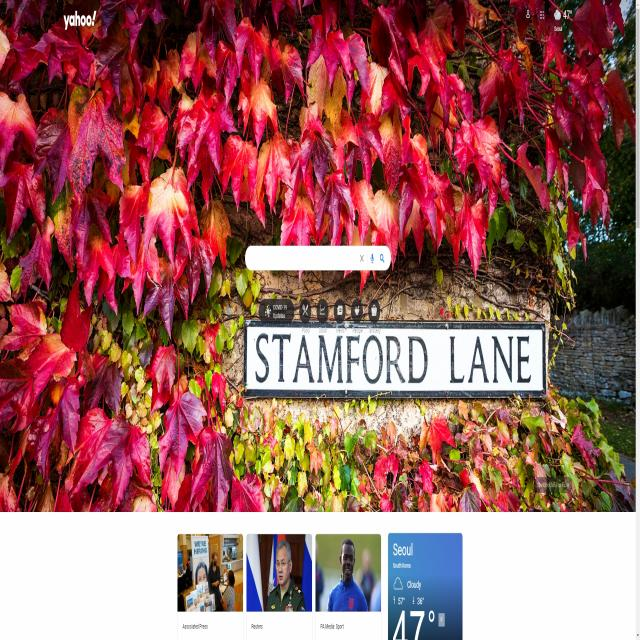menu-bar: (518, 3, 572, 36)
search: (244, 242, 392, 278)
side-panel: (386, 530, 464, 640)
tab-bar: (256, 295, 382, 333)
